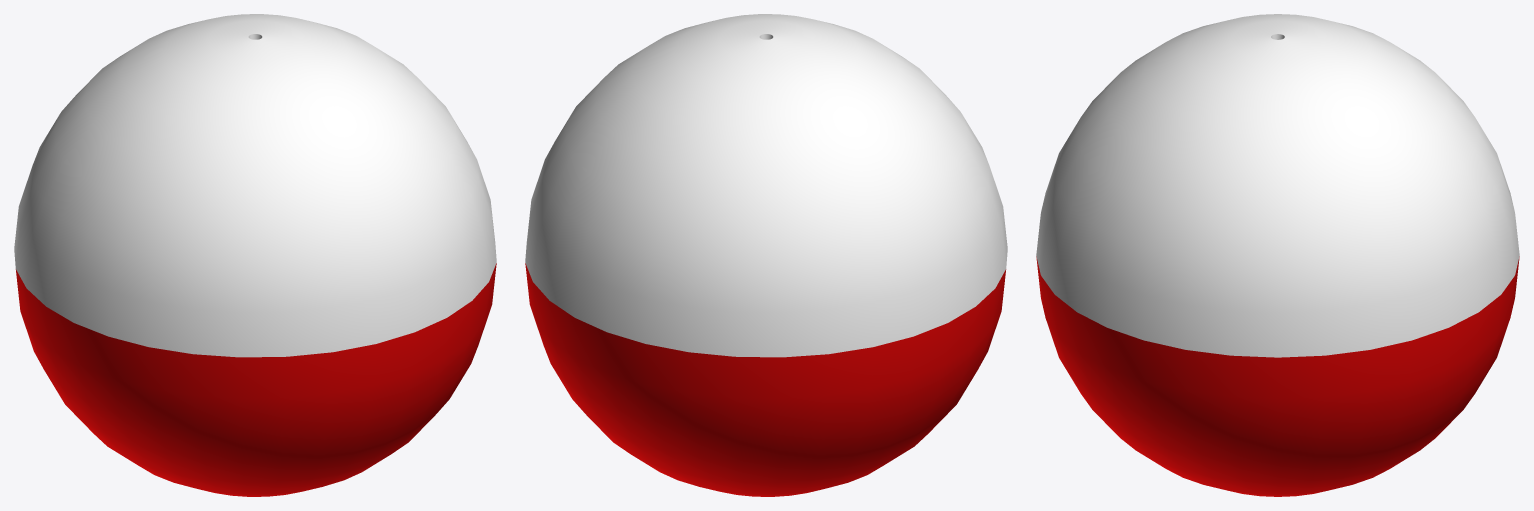
The picture shows the model from 3 angles, left to right: view 1: azimuth 30°, elevation 25°; view 2: azimuth 150°, elevation 25°; view 3: azimuth 270°, elevation 25°; orthographic projection.
Parts seen in each view (by area): view 1: Cap; view 2: Cap; view 3: Cap.
Part boxes in pixels (x1=…): Cap: x1=14, y1=14, x2=496, y2=496; Cap: x1=525, y1=14, x2=1007, y2=496; Cap: x1=1036, y1=14, x2=1519, y2=496.
Size of the model in its own units: 47.24 by 47.12 by 47.24.
